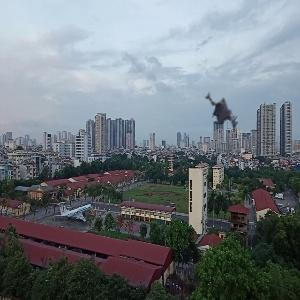drone: (190, 68, 263, 141)
